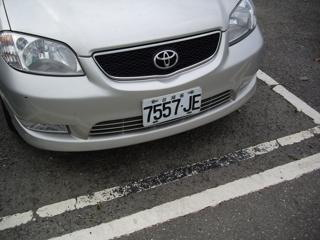plate: (140, 92, 202, 119)
